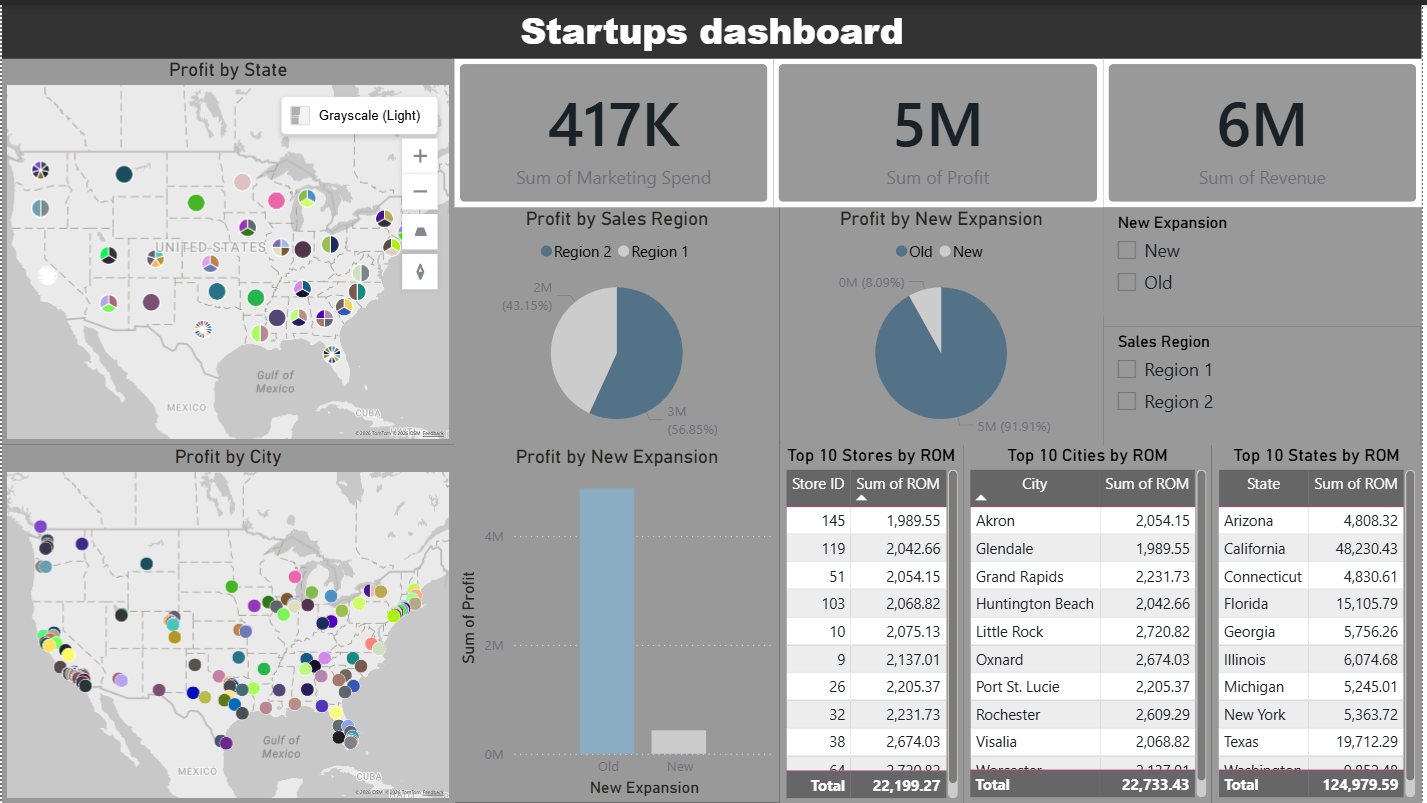

This screenshot's page, from the dashboard's own definition file:
{"tool":"powerbi","page":{"name":"Dashboard","canvas":[1280,720],"ordinal":1},"visuals":[{"type":"shape","title":"Startups dashboard","box":[0,0,1280,720],"z":0},{"type":"azureMap","title":"State by Profit","fields":{"Category":["startupsModified.State"],"Series":["startupsModified.Profit"]},"box":[0,48.5,408,348.3],"z":1000},{"type":"azureMap","title":"City by Profit","fields":{"Series":["startupsModified.Profit"],"Category":["startupsModified.City"]},"box":[0,396.8,408,323.4],"z":2000},{"type":"cardVisual","fields":{"Data":["Sum(startupsModified.Marketing Spend)"]},"box":[408,48.5,287.4,134.3],"z":3000},{"type":"cardVisual","fields":{"Data":["Sum(startupsModified.Profit)"]},"box":[695.4,48.5,297.3,134.3],"z":4000},{"type":"cardVisual","fields":{"Data":["Sum(startupsModified.Revenue)"]},"box":[992.7,48.5,287.4,134.3],"z":5000},{"type":"pieChart","fields":{"Category":["startupsModified.Sales Region"],"Y":["Sum(startupsModified.Profit)"]},"box":[408,182.6,293.1,214.2],"z":6000},{"type":"slicer","fields":{"Values":["startupsModified.New Expansion"]},"box":[992.7,182.9,287.4,98.3],"z":7000},{"type":"slicer","fields":{"Values":["startupsModified.New Expansion"]},"box":[992.7,182.9,287.4,107],"z":8000},{"type":"clusteredColumnChart","fields":{"Category":["startupsModified.New Expansion"],"Y":["Sum(startupsModified.Profit)"]},"box":[408,396.7,293.1,322.4],"z":9000},{"type":"slicer","fields":{"Values":["startupsModified.Sales Region"]},"box":[993,289.7,286.3,107.1],"z":10000},{"type":"pieChart","fields":{"Y":["Sum(startupsModified.Profit)"],"Category":["startupsModified.New Expansion"]},"box":[701.1,182.6,291.9,214.2],"z":11000},{"type":"tableEx","title":"Top 10 Stores by ROM","fields":{"Values":["startupsModified.Store ID","Sum(startupsModified.ROM)"]},"box":[701.1,396.7,165.7,323.5],"z":12000},{"type":"tableEx","title":"Top 10 Cities by ROM","fields":{"Values":["startupsModified.City","Sum(startupsModified.ROM)"]},"box":[867.1,397.1,224.3,322.9],"z":13000},{"type":"tableEx","title":"Top 10 States by ROM","fields":{"Values":["startupsModified.State","Sum(startupsModified.ROM)"]},"box":[1091.4,397.1,188.6,322.9],"z":14000}]}

Visuals, with their boxes in screenshot pixels (x1, y1, x2, y2), scaled from the page's 1280x720 canvas onto the 1427x803 screenshot:
"Startups dashboard" shape: (x1=0, y1=0, x2=1426, y2=802)
"State by Profit" azureMap: (x1=0, y1=54, x2=455, y2=443)
"City by Profit" azureMap: (x1=0, y1=443, x2=455, y2=802)
cardVisual - Sum(startupsModified.Marketing Spend): (x1=455, y1=54, x2=775, y2=204)
cardVisual - Sum(startupsModified.Profit): (x1=775, y1=54, x2=1107, y2=204)
cardVisual - Sum(startupsModified.Revenue): (x1=1107, y1=54, x2=1426, y2=204)
pieChart - startupsModified.Sales Region x Sum(startupsModified.Profit): (x1=455, y1=204, x2=782, y2=443)
slicer - startupsModified.New Expansion: (x1=1107, y1=204, x2=1426, y2=314)
slicer - startupsModified.New Expansion: (x1=1107, y1=204, x2=1426, y2=323)
clusteredColumnChart - startupsModified.New Expansion x Sum(startupsModified.Profit): (x1=455, y1=442, x2=782, y2=802)
slicer - startupsModified.Sales Region: (x1=1107, y1=323, x2=1426, y2=443)
pieChart - Sum(startupsModified.Profit) x startupsModified.New Expansion: (x1=782, y1=204, x2=1107, y2=443)
"Top 10 Stores by ROM" tableEx: (x1=782, y1=442, x2=966, y2=802)
"Top 10 Cities by ROM" tableEx: (x1=967, y1=443, x2=1217, y2=802)
"Top 10 States by ROM" tableEx: (x1=1217, y1=443, x2=1426, y2=802)
